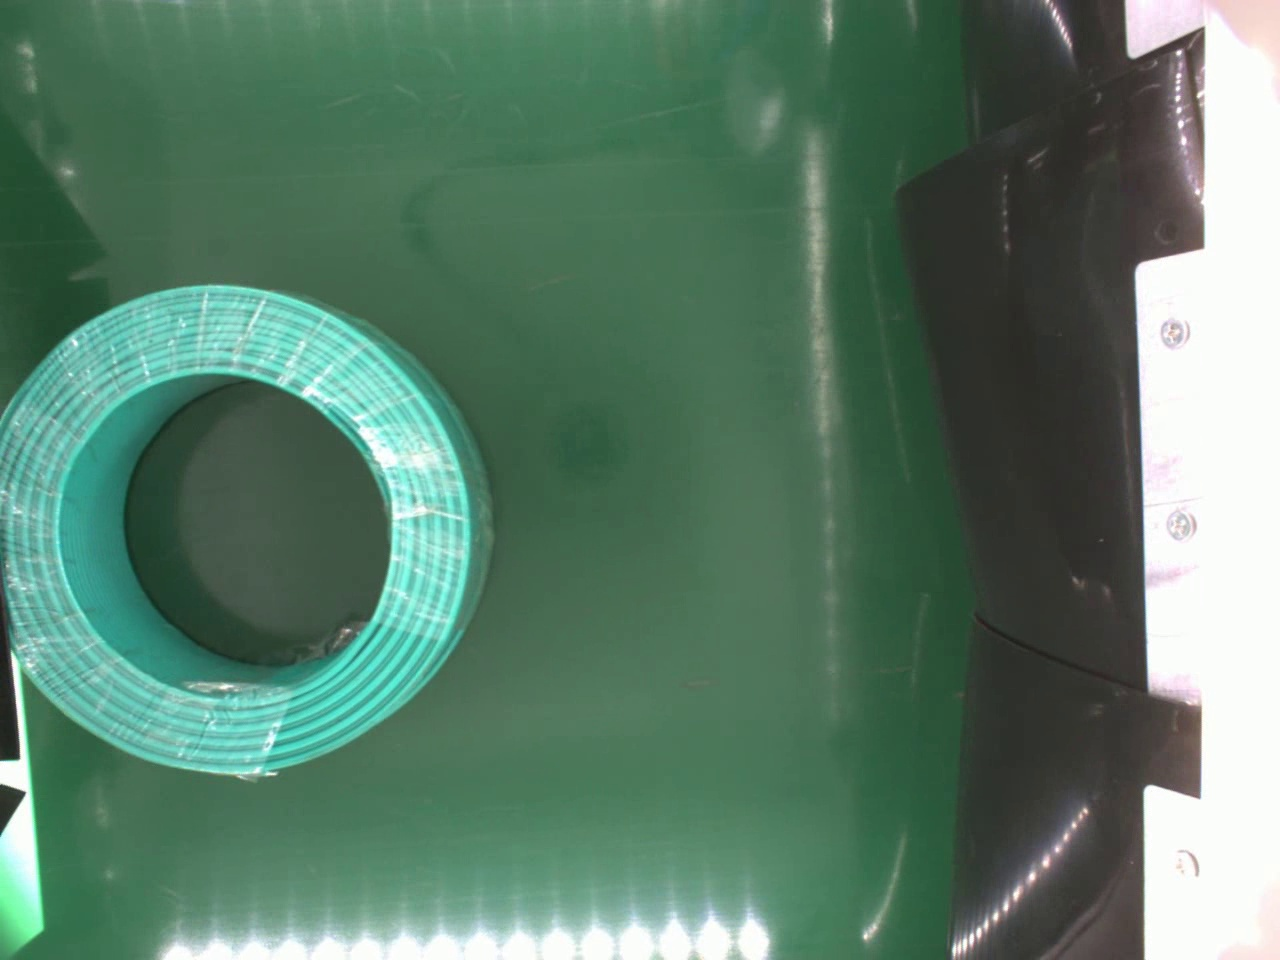green: (5, 284, 496, 778)
